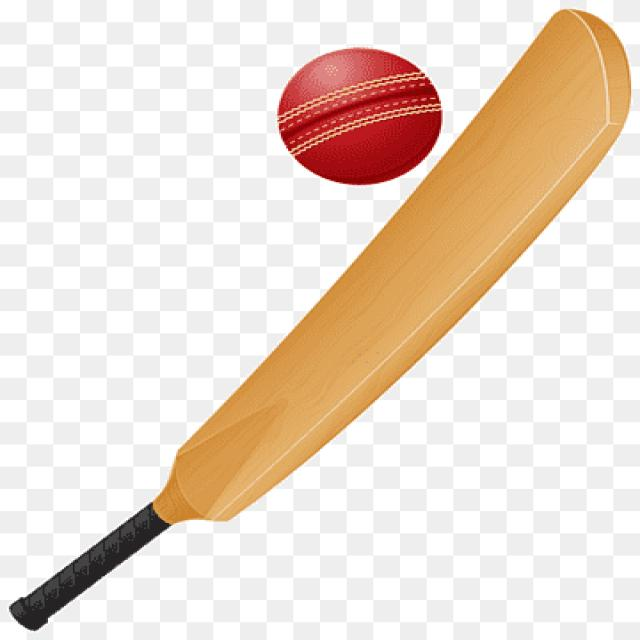ball: (276, 46, 442, 185)
